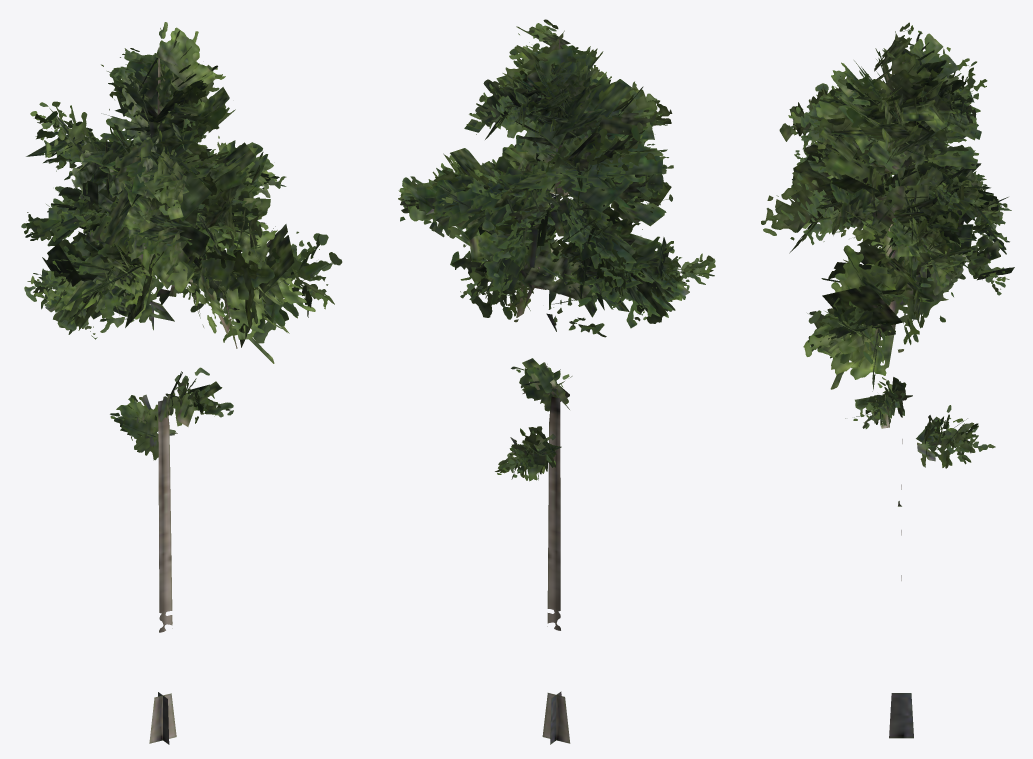
3 renders of one model, left to right at view 1: azimuth 30°, elevation 25°; view 2: azimuth 150°, elevation 25°; view 3: azimuth 270°, elevation 25°, orthographic.
Parts seen in each view (by area): view 1: El_high3; view 2: El_high3; view 3: El_high3.
Part boxes in pixels (x1,y1,x2,y2): El_high3: (21,22,342,744); El_high3: (398,19,715,744); El_high3: (761,22,1014,738).
Size of the model in its own units: 621 by 1415 by 464.
